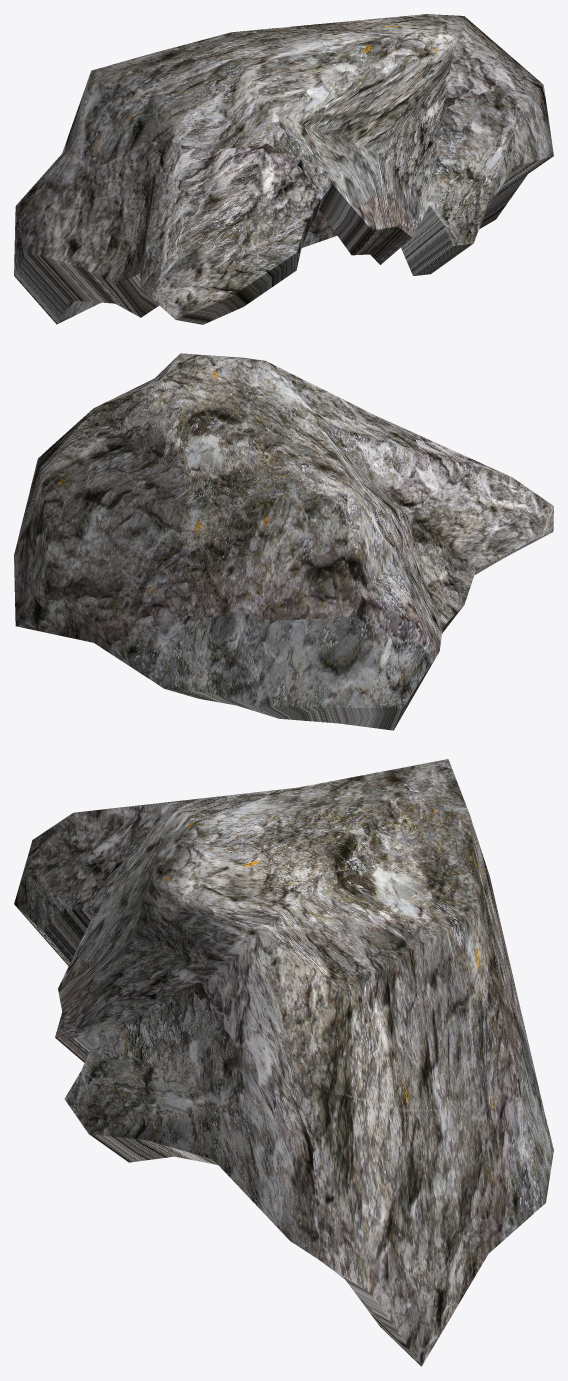
File: rock 3.fbx
3 views of the same model, one above another, from view 1: azimuth 30°, elevation 25°; view 2: azimuth 150°, elevation 25°; view 3: azimuth 270°, elevation 25° (orthographic). The views are drawn at different scales.
Parts seen in each view (by area): view 1: shard12; view 2: shard12; view 3: shard12.
Part boxes in pixels (box(x1,y1,x2,y2)): shard12: box(14, 14, 553, 324); shard12: box(14, 353, 553, 730); shard12: box(14, 759, 553, 1366).
Size of the model in its own units: 9.58 by 5.54 by 6.47.
Materials: 1 (1 with a texture image).
